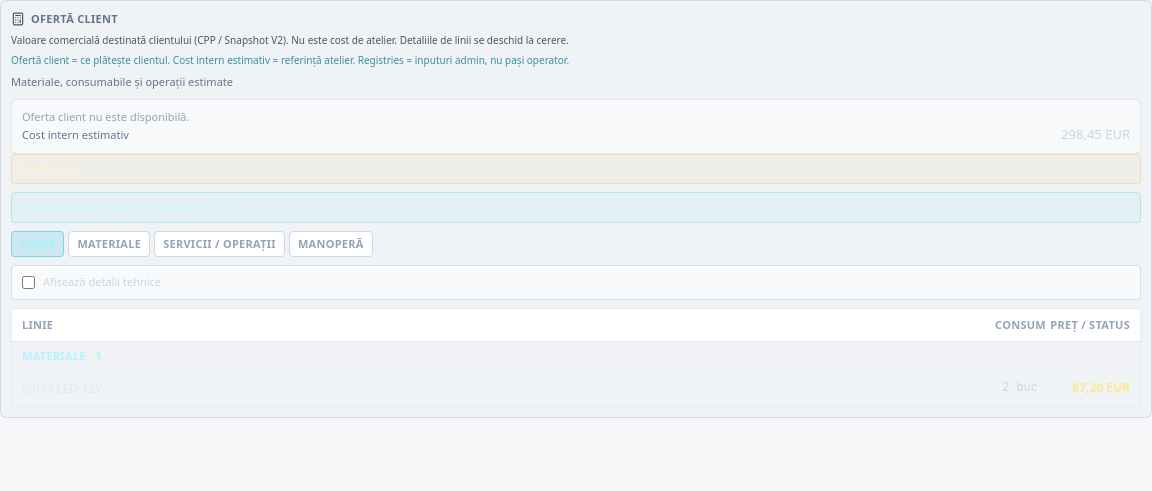
Test: IntakeV6LiveCalculationSummary › shows logical child split rows for PSU only when technical details are enabled
The image size is (1152, 491).
Expected: the element with test id "intake-v6-live-material-used-material.led_psu" shows "2 buc", [1002,381,1038,395]
Expected: the element with test id "intake-v6-live-material-cost-material.led_psu" reads "67,20 EUR", [1072,379,1130,396]
Click the checkbox labelled "Afișează detalii tehnice" at [28, 283], box [22,276,35,289]
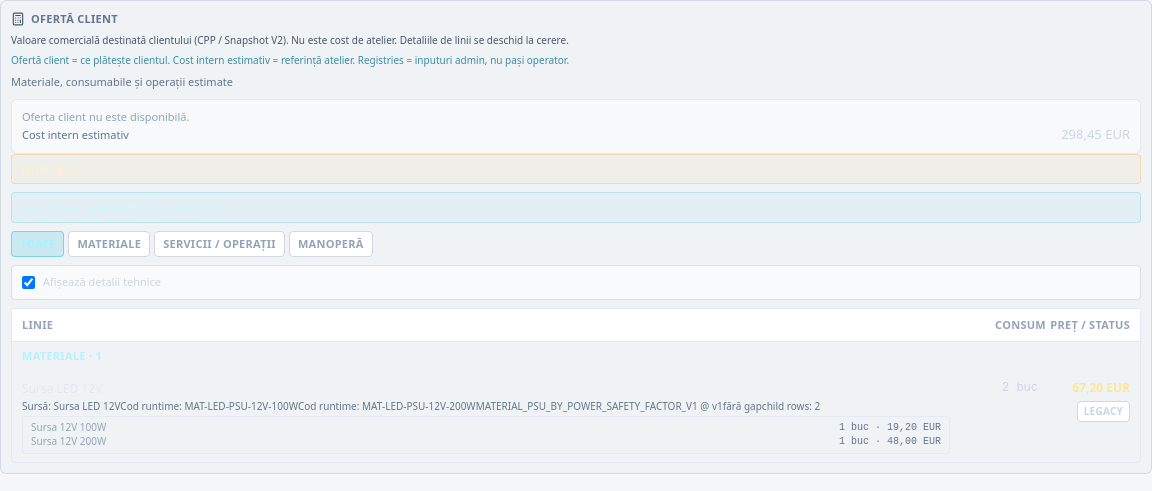
Result: the element with test id "intake-v6-logical-child-rows-material.led_psu" shows "Sursa 12V 100W" at [31,420,106,434]
Result: the element with test id "intake-v6-logical-child-rows-material.led_psu" reads "Sursa 12V 100W 1 buc · 19,20 EUR Sursa 12V 200W 1 buc · 48,00 EUR" at [22,416,950,454]
Result: the element with test id "intake-v6-logical-child-rows-material.led_psu" shows "Sursa 12V 200W" at [31,434,106,448]
